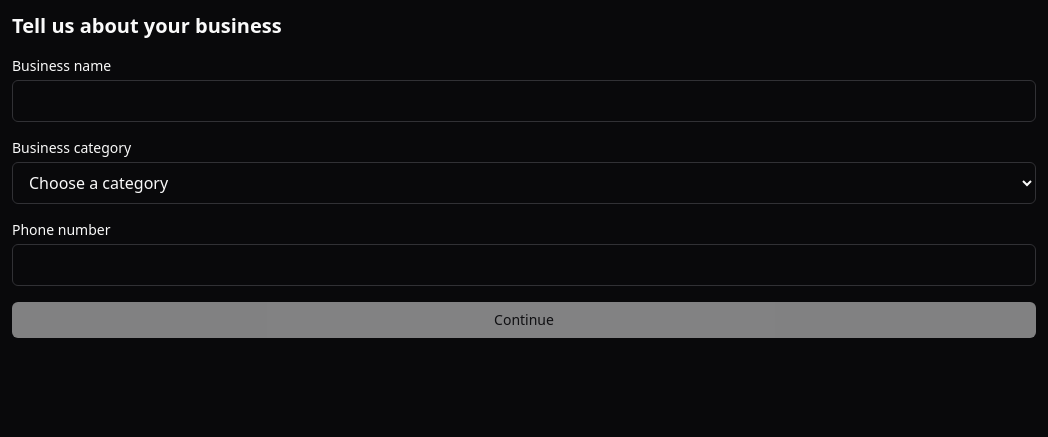
Test: EstablishmentIdentityStep › keeps Continue disabled until name, category, and phone are filled — type stays optional
expect the button "Continue" is disabled: met, box [12,302,1036,338]
Type "Acme Salon" into the field labelled "Business name". click: (524, 101)
box: [12,80,1036,122]
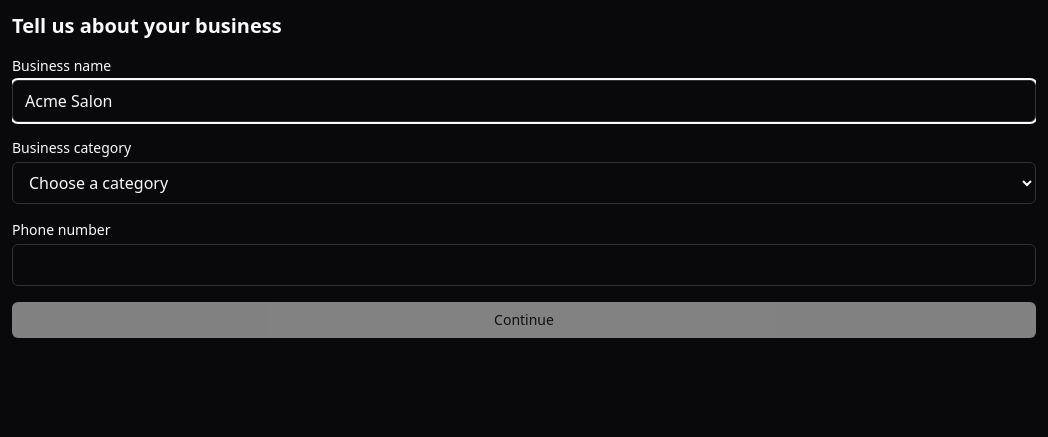
Select "Salon" in the dropdown labelled "Business category". click: (524, 183)
box: [12,162,1036,204]
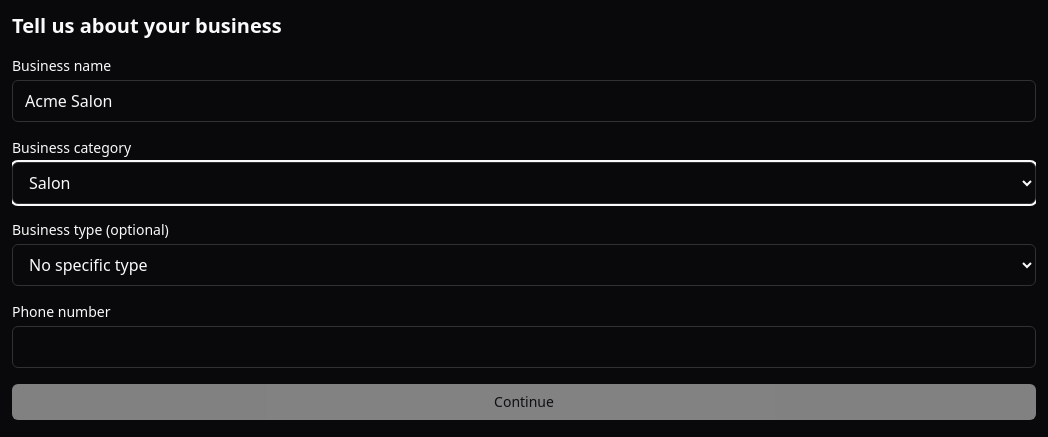
Type "+25761234567" into the field labelled "Phone number". click: (524, 347)
box: [12,326,1036,368]
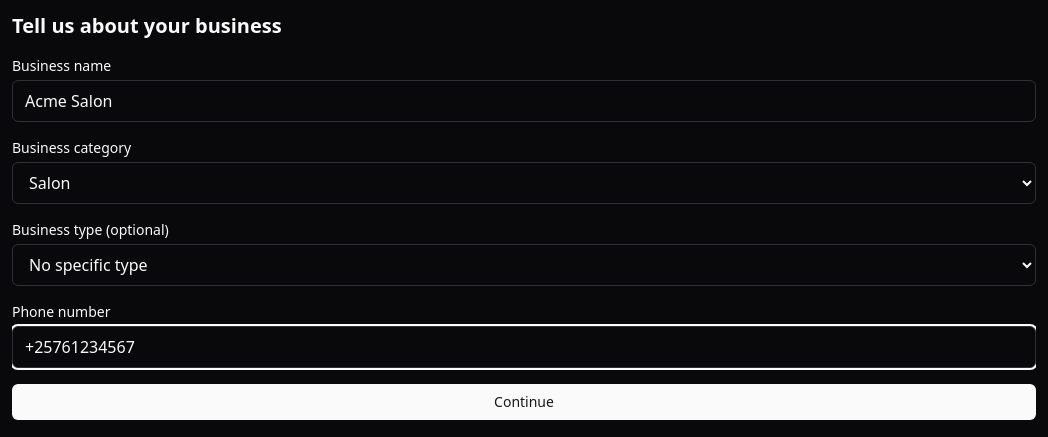
expect the button "Continue" is enabled: met, box [12,384,1036,420]
